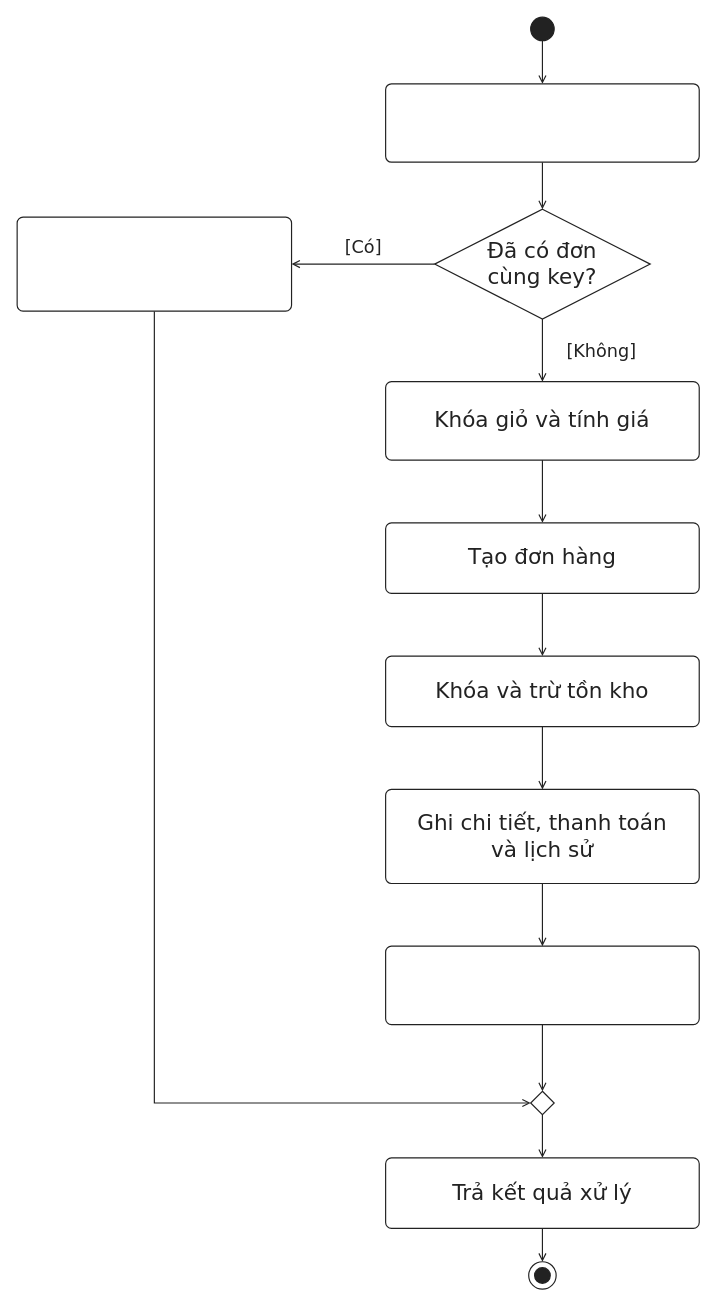
Some shapes in this 717 by 1307 pixel diagram are drawn without their labels. The centre of each missing label's shape, as x and y in pixels:
"Khóa và kiểm tra khách hàng" belongs at (542,122).
"Kiểm tra quyền và lấy đơn cũ" belongs at (154,263).
"Đánh dấu giỏ đã đặt hàng" belongs at (542,985).
